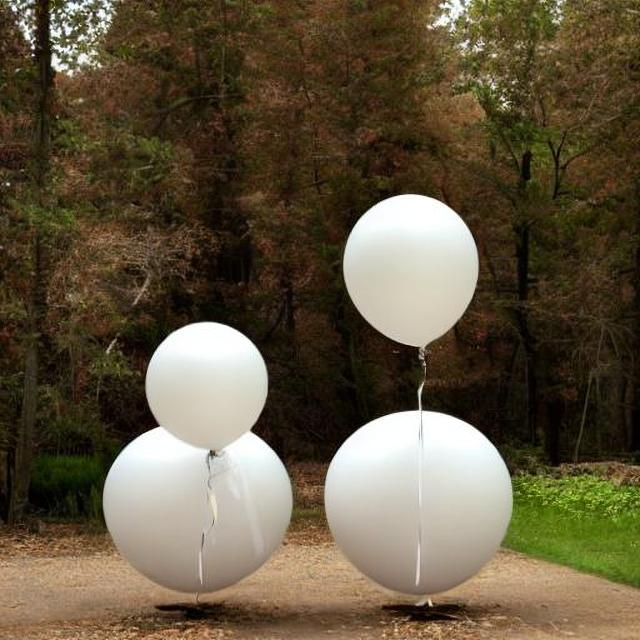balloon: (92, 421, 314, 602), (324, 400, 505, 594), (336, 181, 494, 374), (146, 309, 282, 451)
